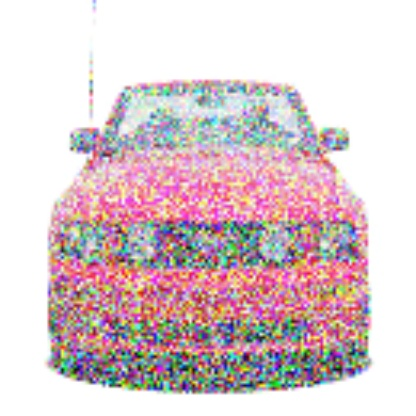Vehicle: (49, 1, 372, 397)
